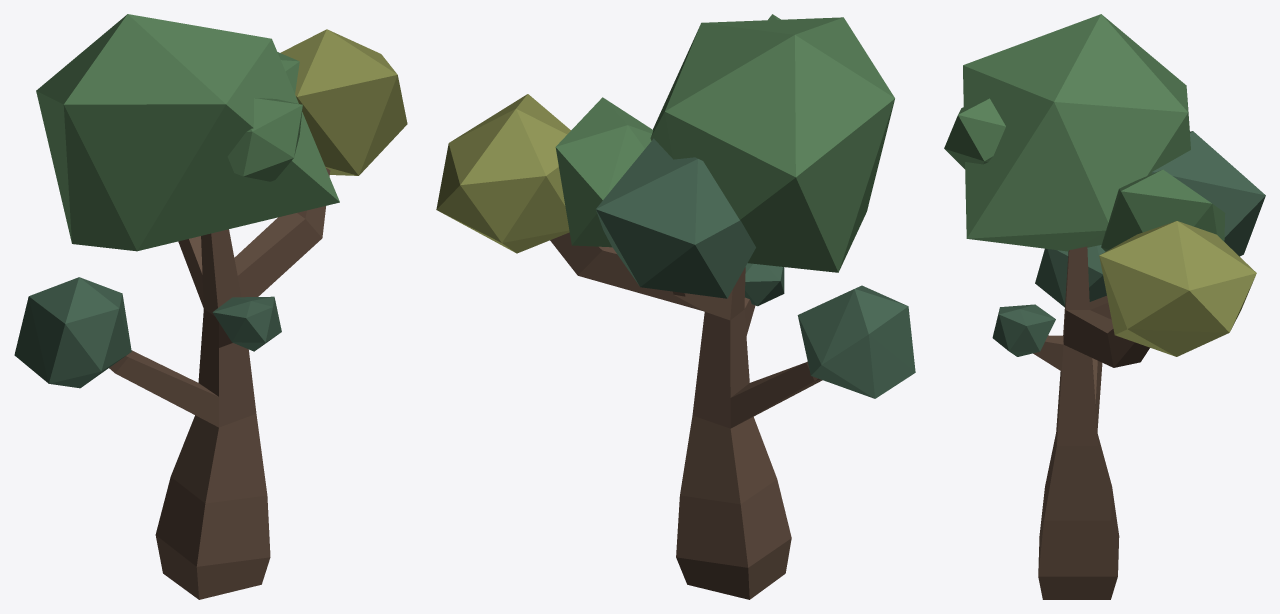
File: tree0_1.fbx
3 renders of one model, left to right at view 1: azimuth 30°, elevation 25°; view 2: azimuth 150°, elevation 25°; view 3: azimuth 270°, elevation 25°, orthographic. The views are drawn at different scales.
Parts seen in each view (by area): view 1: Icosphere.010, trunk.001, Icosphere.009, Icosphere.012, Icosphere.014, Icosphere.013; view 2: Icosphere.010, trunk.001, Icosphere.011, Icosphere.009, Icosphere.012, Icosphere.015, Icosphere.013; view 3: Icosphere.010, trunk.001, Icosphere.009, Icosphere.015, Icosphere.011, Icosphere.014, Icosphere.013, Icosphere.012.
Boxes of the visible parts, left/top/right/bottom form: Icosphere.010: left=36, top=14, right=339, bottom=251; trunk.001: left=109, top=168, right=330, bottom=599; Icosphere.009: left=280, top=29, right=407, bottom=175; Icosphere.012: left=14, top=277, right=131, bottom=388; Icosphere.014: left=227, top=98, right=302, bottom=181; Icosphere.013: left=212, top=296, right=281, bottom=351; Icosphere.010: left=650, top=17, right=894, bottom=272; trunk.001: left=550, top=232, right=822, bottom=599; Icosphere.011: left=596, top=138, right=755, bottom=298; Icosphere.009: left=436, top=94, right=570, bottom=253; Icosphere.012: left=797, top=285, right=915, bottom=398; Icosphere.015: left=555, top=97, right=653, bottom=247; Icosphere.013: left=745, top=263, right=784, bottom=306; Icosphere.010: left=963, top=14, right=1190, bottom=251; trunk.001: left=1033, top=246, right=1149, bottom=599; Icosphere.009: left=1099, top=221, right=1256, bottom=356; Icosphere.015: left=1101, top=169, right=1225, bottom=251; Icosphere.011: left=1151, top=131, right=1265, bottom=256; Icosphere.014: left=944, top=98, right=1005, bottom=168; Icosphere.013: left=992, top=304, right=1055, bottom=356; Icosphere.012: left=1035, top=245, right=1106, bottom=307.
Bounding box in the file's own units: 607 × 830 × 450.
